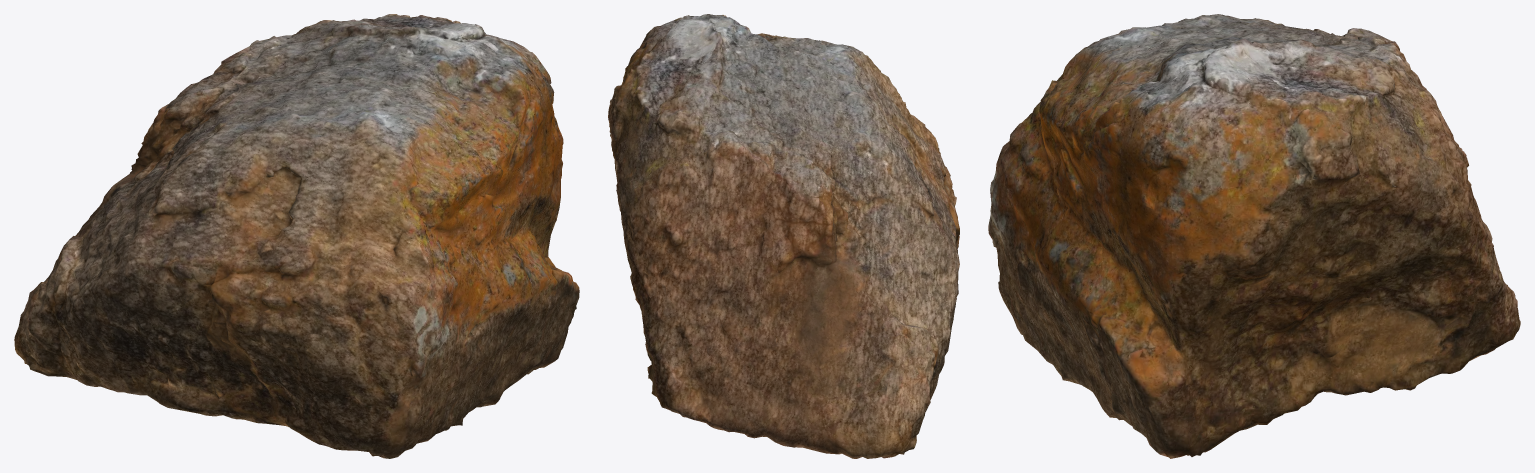
File: namaqualand_boulder_04.glb
3 views of the same model, side by side, from view 1: azimuth 30°, elevation 25°; view 2: azimuth 150°, elevation 25°; view 3: azimuth 270°, elevation 25° (orthographic). The views are drawn at different scales.
Parts seen in each view (by area): view 1: boulder_04; view 2: boulder_04; view 3: boulder_04.
Boxes of the visible parts, box(x1,y1,x2,y2) form: boulder_04: box(14, 14, 579, 458); boulder_04: box(608, 14, 959, 458); boulder_04: box(988, 14, 1520, 458).
Bounding box in the file's own units: 2.52 × 1.9 × 2.5.
Materials: 1 (1 with a texture image).
